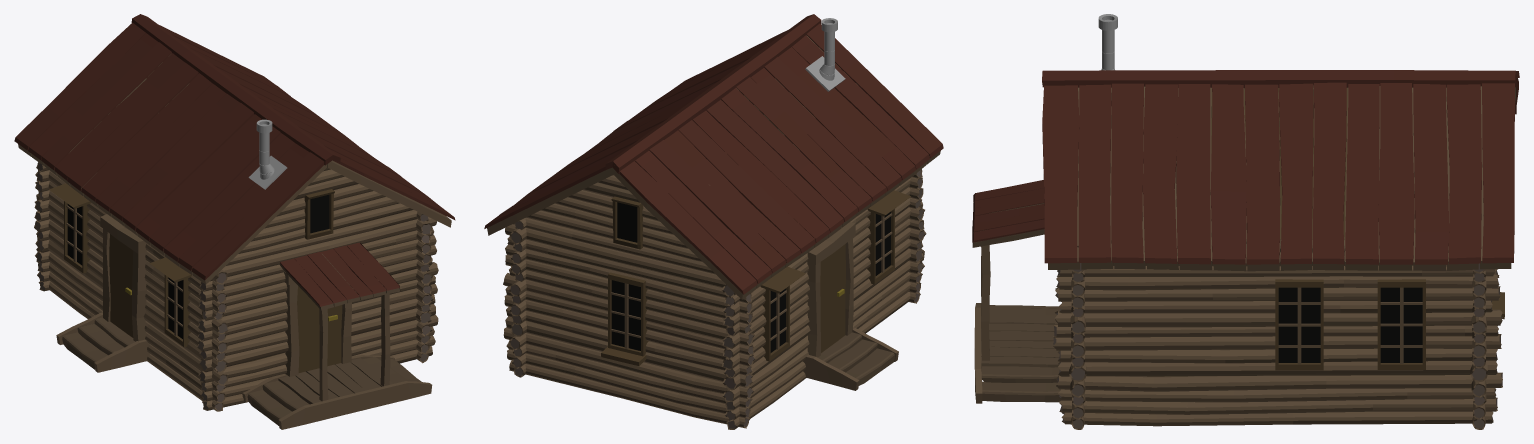
File: Cabin.fbx
3 views of the same model, side by side, from view 1: azimuth 30°, elevation 25°; view 2: azimuth 150°, elevation 25°; view 3: azimuth 270°, elevation 25° (orthographic). The views are drawn at different scales.
Visible parts, largest first — view 1: Cube.082, Cylinder.001, Cylinder.005, Cube.079, Cylinder.007, Cube.089, Cube.083, Cube.106, Cube.085, Cylinder.006, Cube.010, Cube.081 (+27 smaller); view 2: Cube.082, Cylinder.002, Cylinder.005, Cube.079, Cylinder.004, Cube.083, Cube.031, Cube.010, Cylinder.006, Cube.081, Cylinder.001, Cube.032 (+15 smaller); view 3: Cube.079, Cylinder.006, Cube.083, Cube.076, Cube.035, Cube.034, Cube.089, Cylinder.001, Cylinder.002, Cube.109, Cube.108, Cube.101 (+9 smaller).
Part boxes in pixels (bbox=[...]): Cube.082: bbox=[14, 22, 324, 280]; Cylinder.001: bbox=[197, 210, 438, 410]; Cylinder.005: bbox=[36, 170, 228, 411]; Cube.079: bbox=[159, 25, 455, 220]; Cylinder.007: bbox=[238, 167, 413, 253]; Cube.089: bbox=[280, 242, 399, 306]; Cube.083: bbox=[131, 14, 340, 165]; Cube.106: bbox=[278, 381, 432, 429]; Cube.085: bbox=[297, 286, 342, 372]; Cylinder.006: bbox=[415, 211, 433, 363]; Cube.010: bbox=[109, 234, 133, 337]; Cube.081: bbox=[18, 54, 327, 284]; Cube.082: bbox=[619, 23, 943, 294]; Cylinder.002: bbox=[503, 217, 755, 428]; Cylinder.005: bbox=[722, 178, 922, 429]; Cube.079: bbox=[484, 30, 787, 228]; Cylinder.004: bbox=[526, 175, 702, 262]; Cube.083: bbox=[605, 14, 821, 173]; Cube.031: bbox=[608, 272, 648, 356]; Cube.010: bbox=[820, 244, 845, 352]; Cylinder.006: bbox=[509, 218, 526, 377]; Cube.081: bbox=[614, 35, 940, 299]; Cylinder.001: bbox=[908, 169, 926, 303]; Cube.032: bbox=[867, 209, 894, 284]; Cube.079: bbox=[1042, 82, 1514, 264]; Cylinder.006: bbox=[1053, 239, 1502, 426]; Cube.083: bbox=[1042, 70, 1519, 87]; Cube.076: bbox=[1048, 85, 1511, 271]; Cube.035: bbox=[1275, 279, 1323, 370]; Cube.034: bbox=[1377, 279, 1425, 369]; Cube.089: bbox=[972, 180, 1044, 242]; Cylinder.001: bbox=[1069, 245, 1086, 429]; Cylinder.002: bbox=[1470, 263, 1487, 429]; Cube.109: bbox=[982, 381, 1061, 402]; Cube.108: bbox=[981, 366, 1059, 382]; Cube.101: bbox=[981, 245, 990, 360].
Size of the model in its own units: 2078 by 1838 by 2828.
